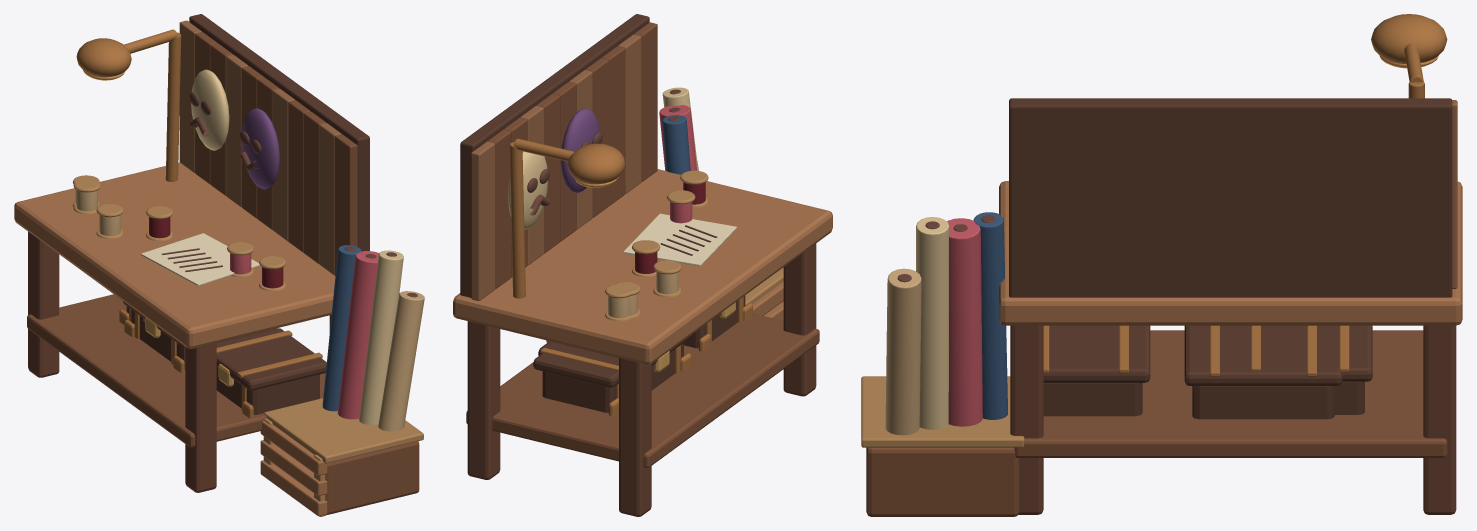
File: SM_Hub_CraftBench.fbx
3 renders of one model, left to right at view 1: azimuth 30°, elevation 25°; view 2: azimuth 150°, elevation 25°; view 3: azimuth 270°, elevation 25°, orthographic. The views are drawn at different scales.
Visible parts, largest first — view 1: Workbench leg.004_Baked; view 2: Workbench leg.004_Baked; view 3: Workbench leg.004_Baked.
Part boxes in pixels (x1=…): Workbench leg.004_Baked: x1=14, y1=14, x2=424, y2=516; Workbench leg.004_Baked: x1=453, y1=14, x2=832, y2=516; Workbench leg.004_Baked: x1=861, y1=14, x2=1462, y2=516.
Bounding box in the file's own units: 118 × 236 × 186.
